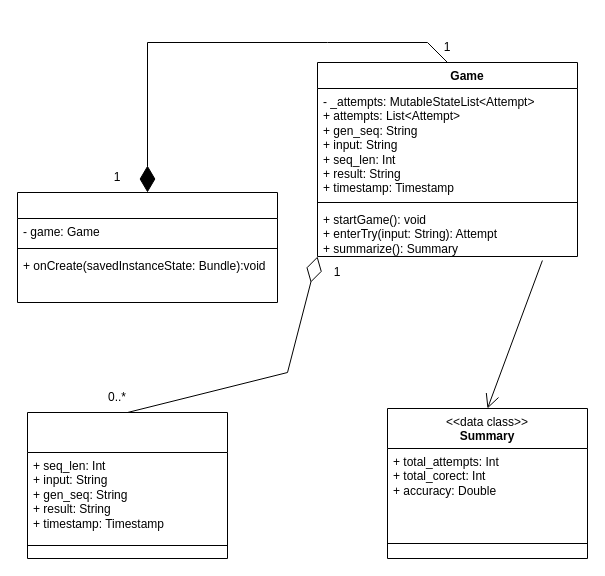
Some shapes in this 605 by 576 pixel diagram are drawn without their labels. The shapes that lost their labels are listed below. From the top down, each one's box as (x1, y1, x2, y2) in pixels, then its label:
(16, 192, 278, 302): MainAcitivity
(26, 412, 228, 558): <<data class>> Attempt
